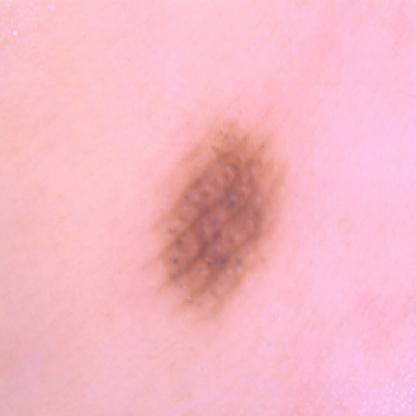benign: (158, 123, 286, 297)
